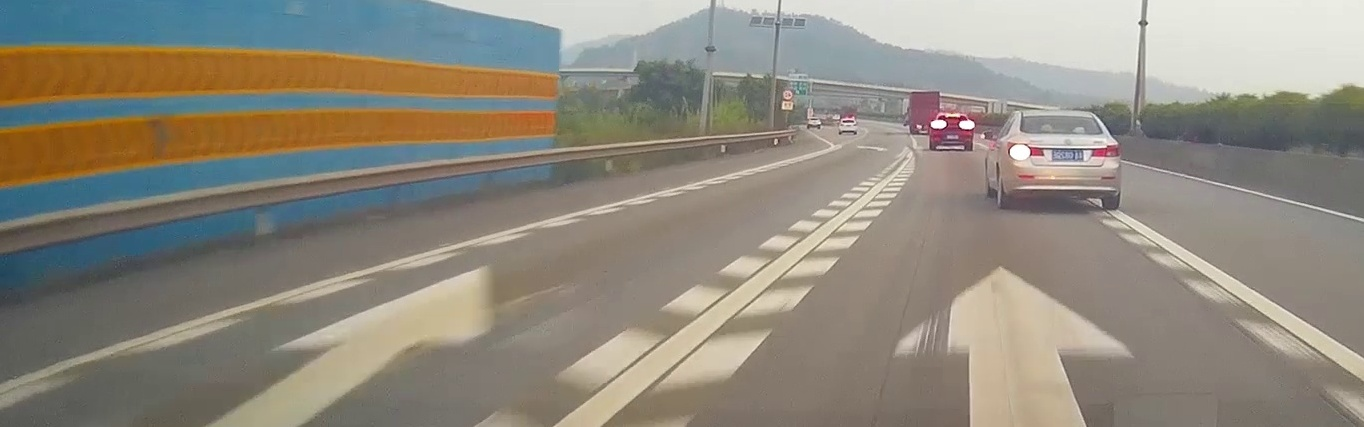L_light: (1007, 141, 1044, 157), (933, 122, 944, 126)
R_light: (1091, 144, 1121, 157), (962, 122, 972, 127)
T_light: (1052, 116, 1068, 120), (947, 114, 959, 117)
day-brake: (931, 113, 973, 152)
day-left: (1005, 110, 1121, 210)
